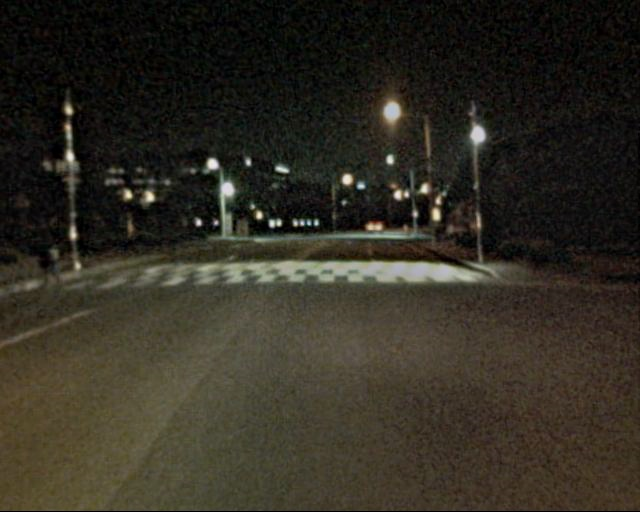person: (33, 225, 73, 297)
